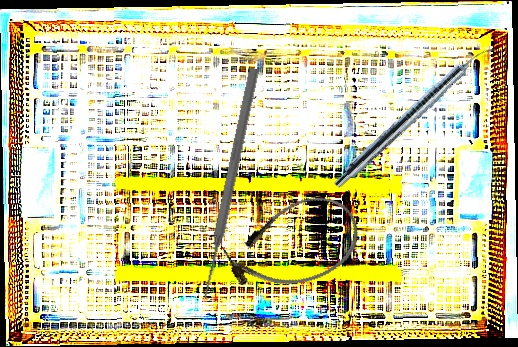Cannula: (215, 184, 371, 306)
Handpiece: (330, 36, 498, 195)
Pusher: (197, 67, 262, 300)
